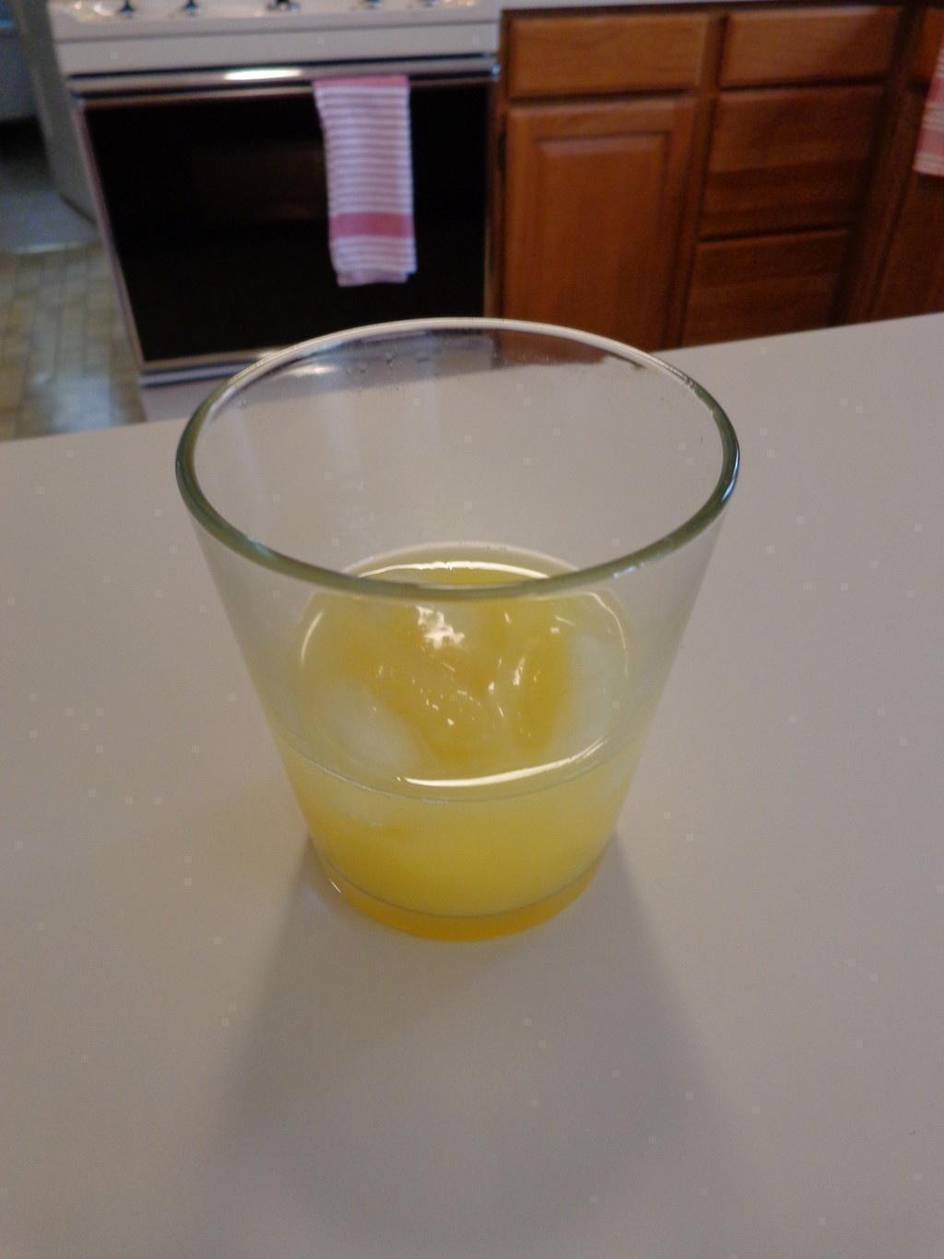glass-normal: (170, 313, 748, 940)
